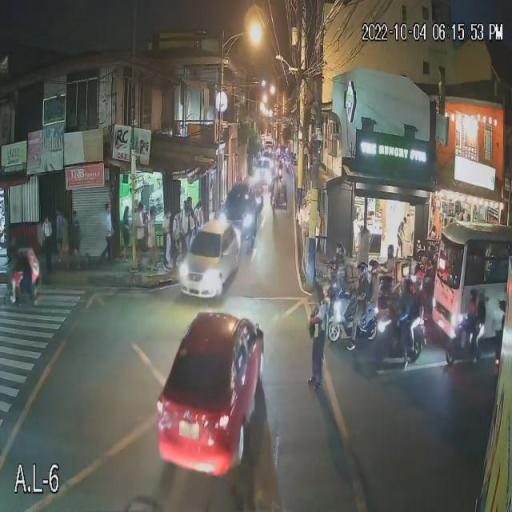helmet: (356, 260, 368, 272), (404, 262, 415, 274)
motorcycle: (376, 300, 426, 365), (325, 288, 379, 346), (444, 312, 487, 365), (10, 262, 40, 308), (274, 188, 288, 210)
rider: (384, 264, 422, 345), (345, 261, 377, 337), (10, 246, 40, 296), (455, 286, 481, 339), (274, 176, 286, 200)
